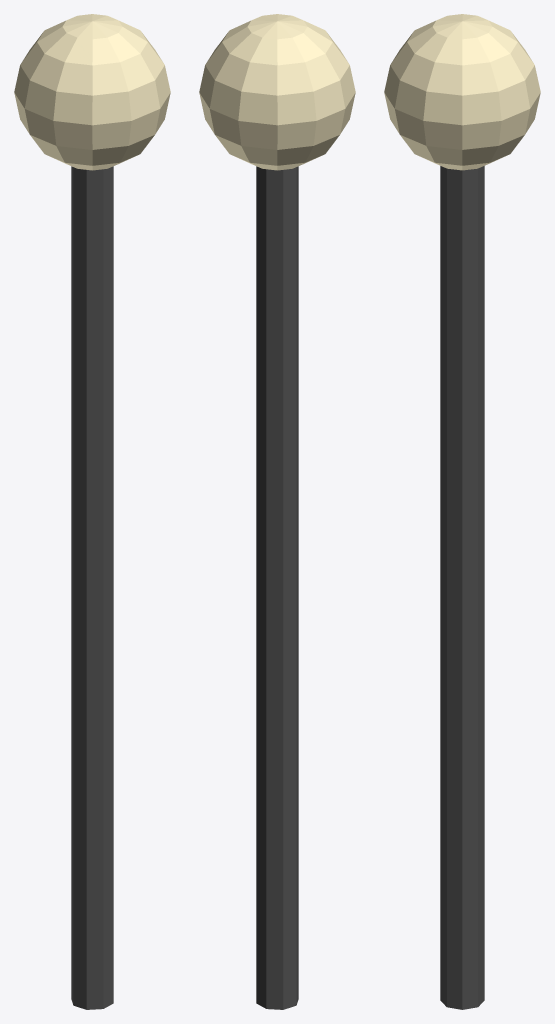
Rendered from historic_pedestrian_lamp.glb.
3 renders of one model, left to right at view 1: azimuth 30°, elevation 25°; view 2: azimuth 150°, elevation 25°; view 3: azimuth 270°, elevation 25°, orthographic.
Visible parts, largest first — view 1: pole, globe; view 2: pole, globe; view 3: pole, globe.
Part boxes in pixels (x1,y1,x2,y2): pole: [71, 166, 113, 1009]; globe: [14, 14, 170, 170]; pole: [256, 166, 298, 1009]; globe: [199, 14, 355, 170]; pole: [440, 166, 484, 1009]; globe: [384, 14, 540, 170].
Bounding box in the file's own units: 0.5 × 3.45 × 0.5.
